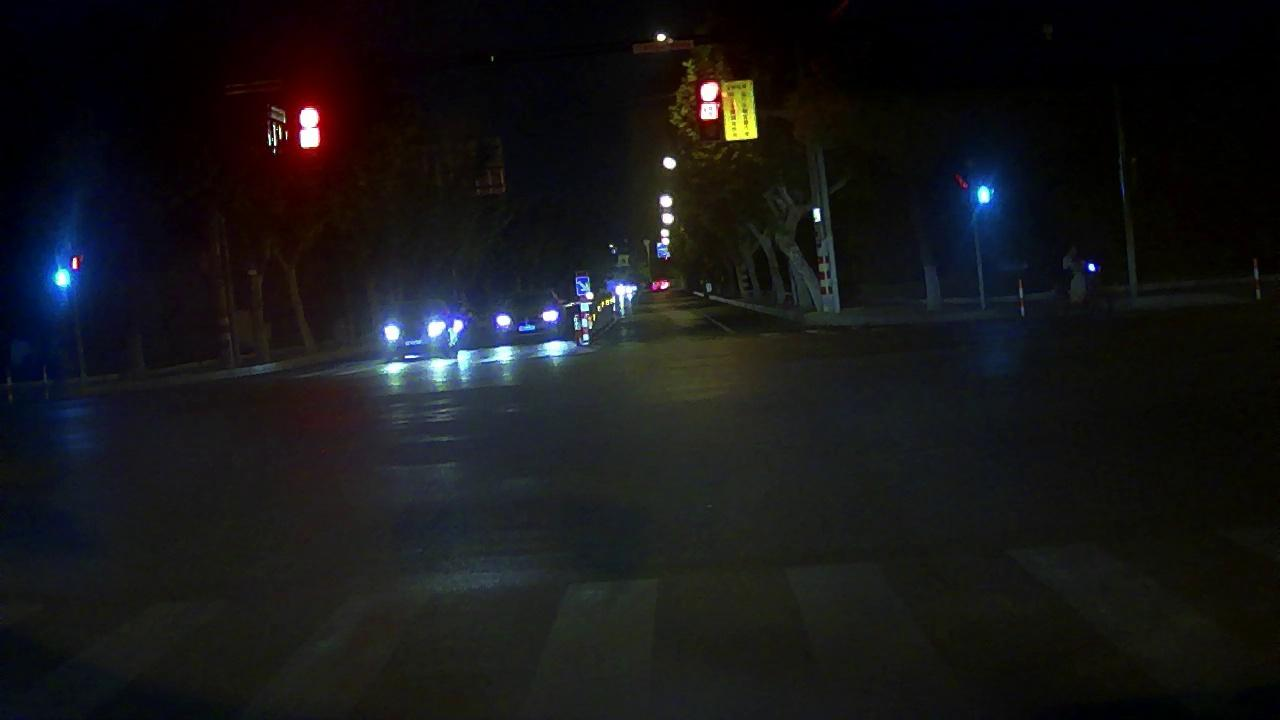traffic_light: (291, 102, 331, 158), (696, 73, 722, 127)
